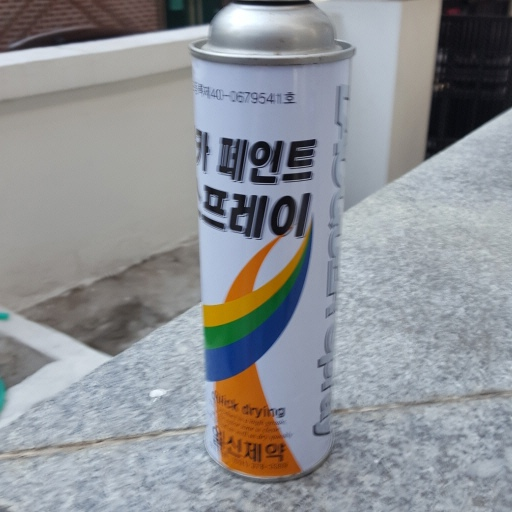Metal_0: (187, 1, 359, 484)
